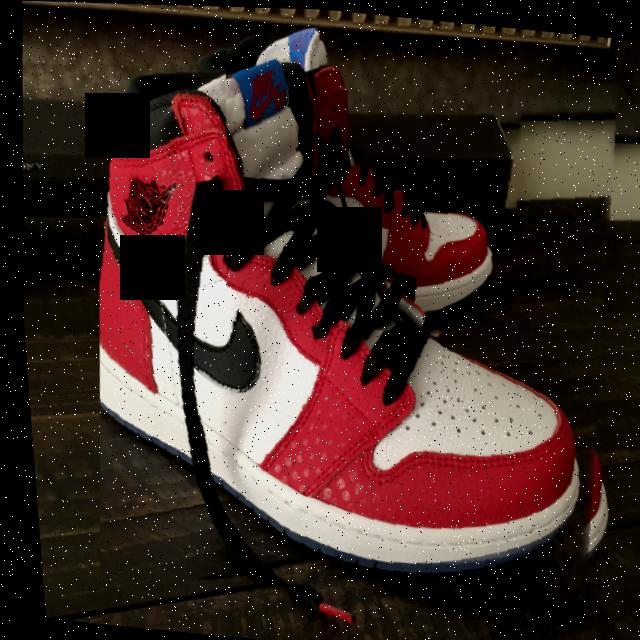shoe: (59, 33, 640, 624), (204, 16, 542, 348)
